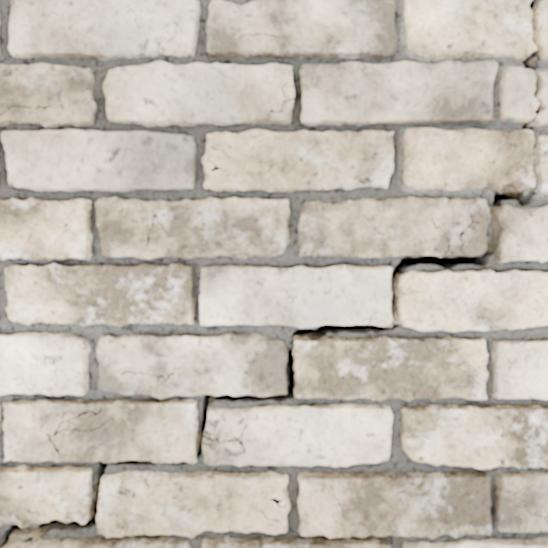brick: (203, 470, 490, 547), (97, 471, 289, 536), (300, 61, 496, 124), (103, 61, 293, 125), (294, 337, 487, 400), (3, 399, 197, 461), (97, 334, 286, 397), (200, 265, 391, 327), (95, 197, 289, 258), (5, 264, 195, 325), (202, 130, 392, 191), (1, 130, 194, 190), (203, 404, 391, 465), (298, 197, 489, 257), (9, 0, 199, 59), (206, 0, 395, 58), (402, 405, 547, 468), (399, 270, 547, 330), (0, 64, 95, 126), (0, 465, 91, 526), (0, 199, 91, 259), (0, 333, 89, 394), (492, 341, 547, 399), (494, 472, 547, 531), (495, 205, 547, 262), (5, 537, 188, 547), (403, 538, 547, 547)
broken_brick: (402, 127, 533, 191), (402, 0, 534, 59), (498, 66, 537, 123), (533, 70, 547, 126), (536, 135, 547, 195), (538, 0, 547, 61)
crack: (0, 0, 545, 547), (266, 80, 294, 115)
